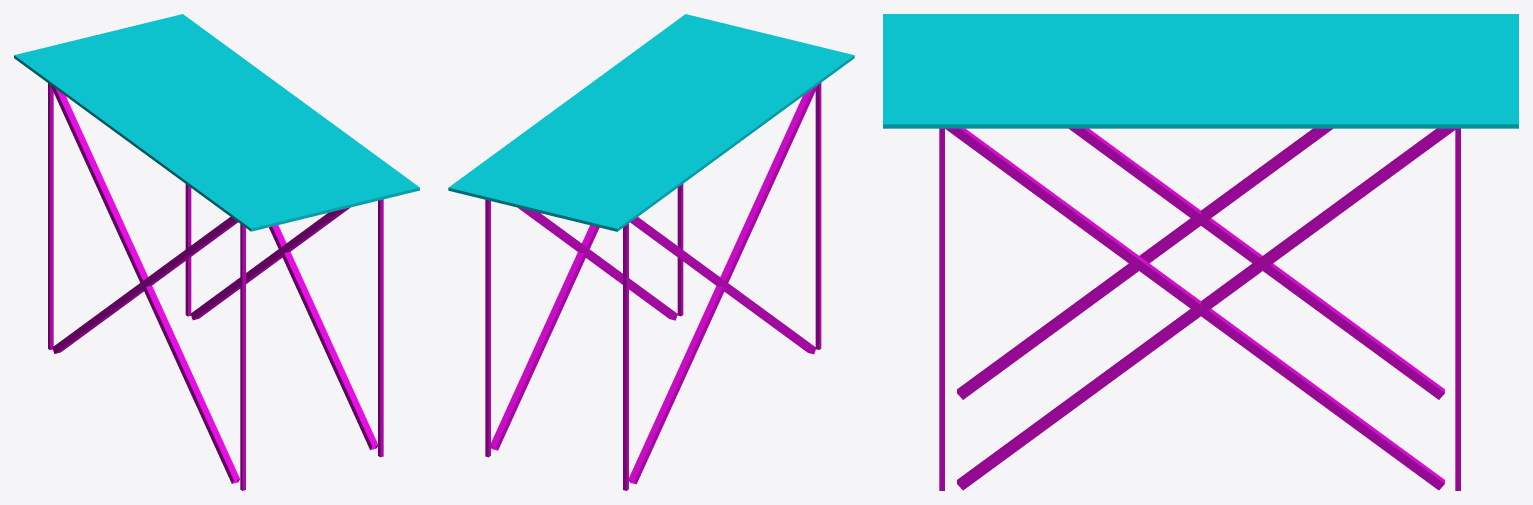
Rendered from Impalcatura.fbx.
3 renders of one model, left to right at view 1: azimuth 30°, elevation 25°; view 2: azimuth 150°, elevation 25°; view 3: azimuth 270°, elevation 25°, orthographic. The views are drawn at different scales.
Parts seen in each view (by area): view 1: impalcatura; view 2: impalcatura; view 3: impalcatura.
Part boxes in pixels (x1,y1,x2,y2): impalcatura: [14, 14, 419, 490]; impalcatura: [448, 14, 854, 490]; impalcatura: [883, 14, 1518, 490].
Bounding box in the file's own units: 71.8 × 114 × 175.
